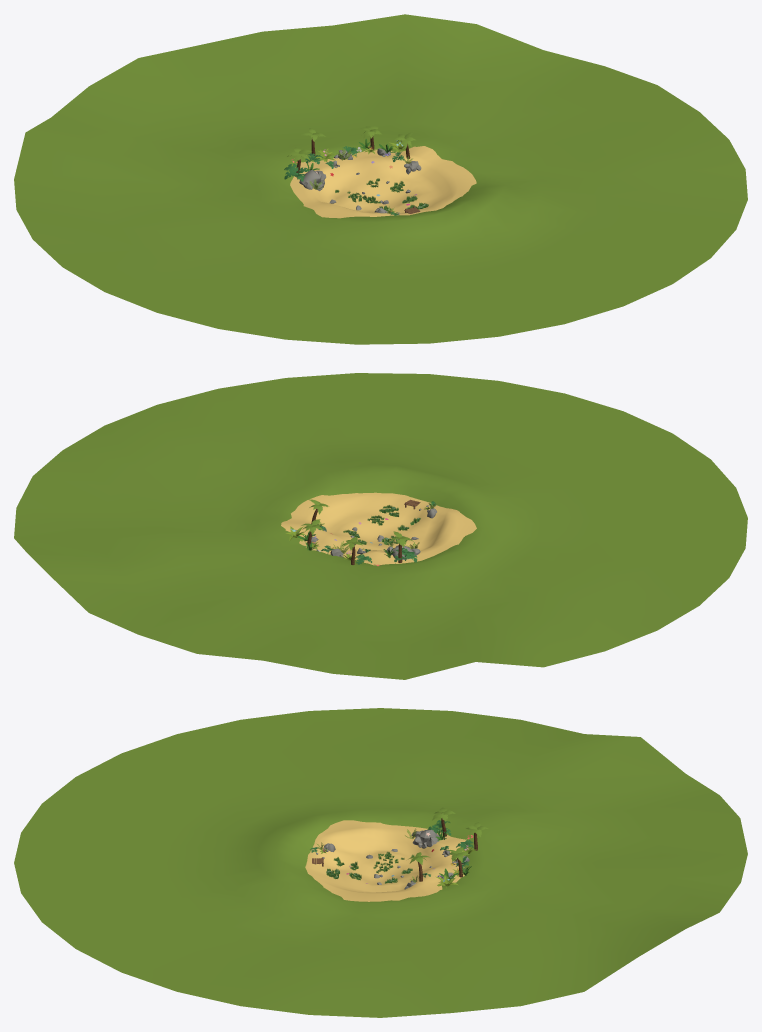
3 views of the same model, one above another, from view 1: azimuth 30°, elevation 25°; view 2: azimuth 150°, elevation 25°; view 3: azimuth 270°, elevation 25° (orthographic).
Parts seen in each view (by area): view 1: ground, Sand; view 2: ground, Sand; view 3: ground, Sand.
Boxes of the visible parts, left/top/right/bottom form: ground: left=14, top=14, right=747, bottom=344; Sand: left=290, top=146, right=476, bottom=218; ground: left=14, top=373, right=747, bottom=679; Sand: left=281, top=492, right=476, bottom=565; ground: left=14, top=708, right=747, bottom=1017; Sand: left=305, top=820, right=466, bottom=901.
Bounding box in the file's own units: 158 × 12.11 × 158.
Materials: 1 (1 with a texture image).
